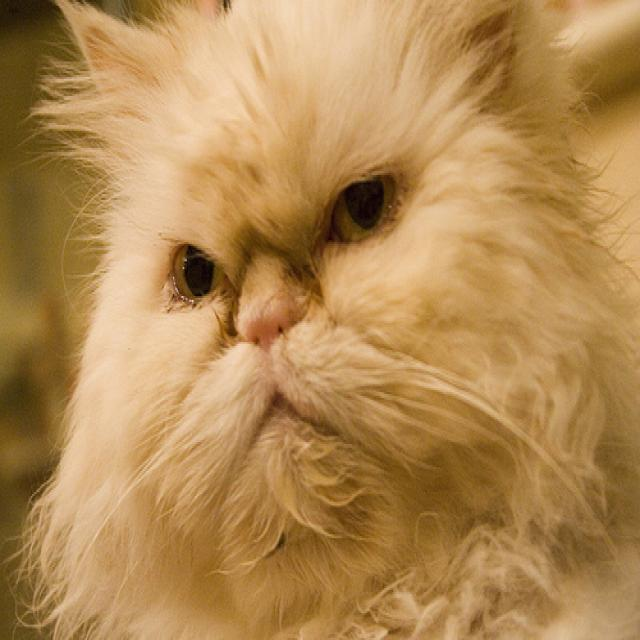Persian: (53, 0, 517, 507)
